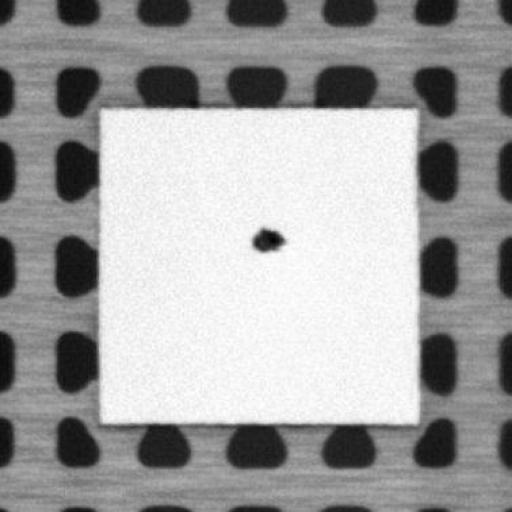DIE_INK: (246, 224, 286, 252)
